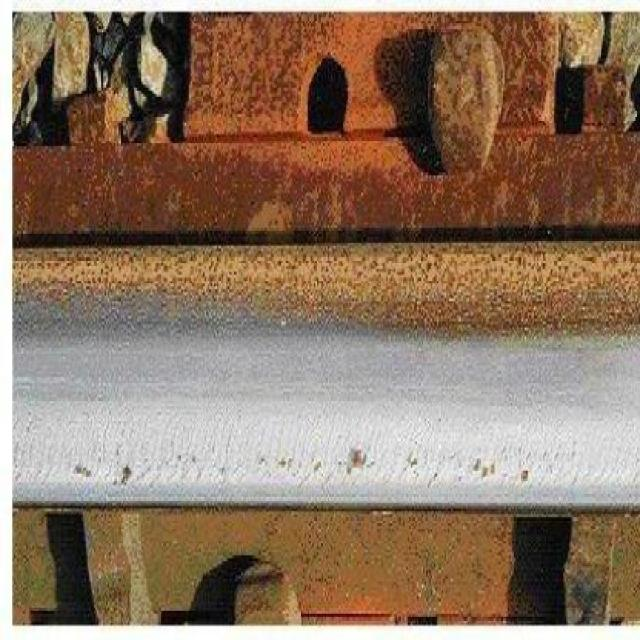defective: (10, 207, 640, 571)
